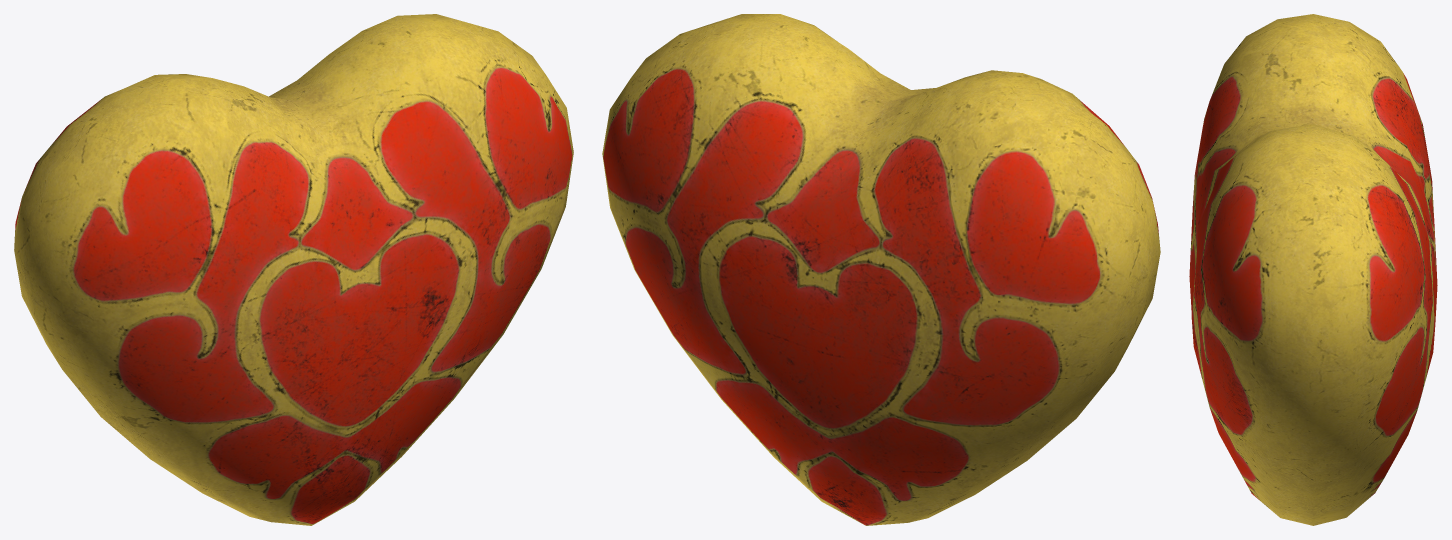
The model's file is heart.glb.
The picture shows the model from 3 angles, left to right: view 1: azimuth 30°, elevation 25°; view 2: azimuth 150°, elevation 25°; view 3: azimuth 270°, elevation 25°; orthographic projection. The views are drawn at different scales.
Parts seen in each view (by area): view 1: heart2:pCube1; view 2: heart2:pCube1; view 3: heart2:pCube1.
Boxes of the visible parts, x1=… form: heart2:pCube1: x1=14, y1=14, x2=573, y2=525; heart2:pCube1: x1=602, y1=14, x2=1160, y2=525; heart2:pCube1: x1=1189, y1=14, x2=1437, y2=525.
Size of the model in its own units: 0.5596 by 0.4706 by 0.2409.
Materials: 1 (1 with a texture image).
